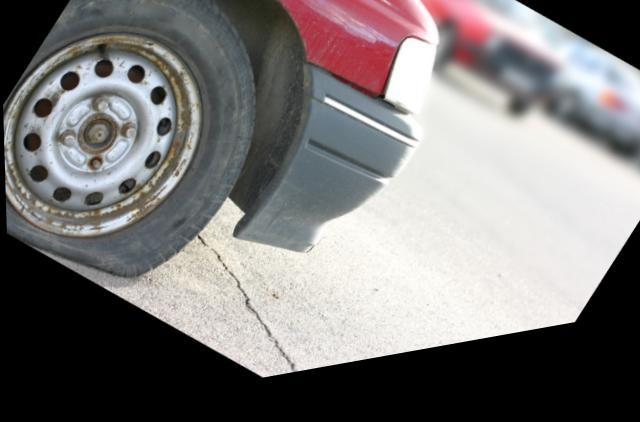scratch: (275, 0, 401, 69)
tire flat: (2, 0, 253, 283)
